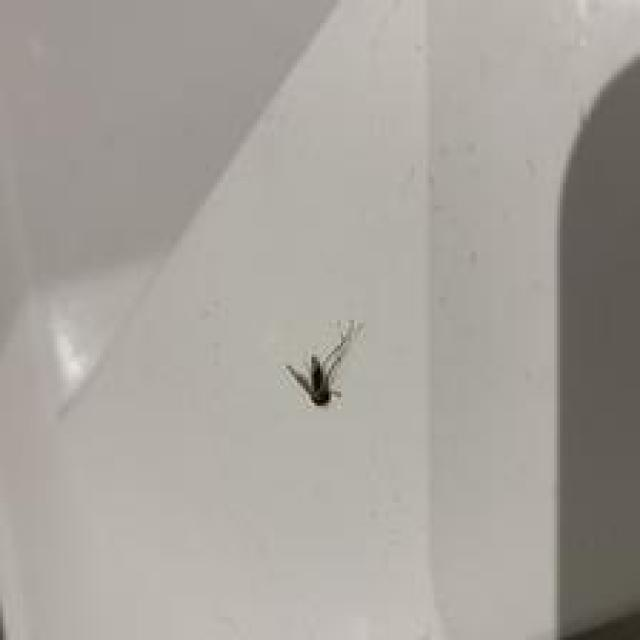Culex: (284, 317, 364, 409)
